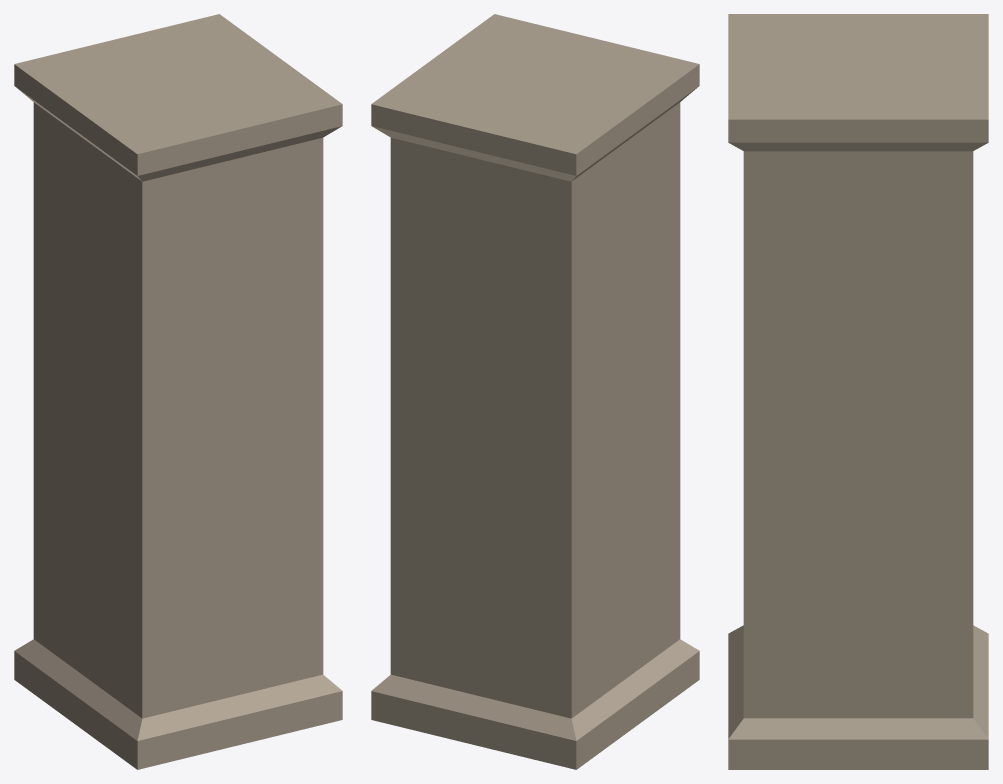
The model's file is SM_Guard_Rail_Box.FBX.
3 renders of one model, left to right at view 1: azimuth 30°, elevation 25°; view 2: azimuth 150°, elevation 25°; view 3: azimuth 270°, elevation 25°, orthographic. The views are drawn at different scales.
Visible parts, largest first — view 1: Object002; view 2: Object002; view 3: Object002.
Part boxes in pixels (x1=…): Object002: x1=14, y1=14, x2=342, y2=769; Object002: x1=371, y1=14, x2=699, y2=769; Object002: x1=728, y1=14, x2=988, y2=769.
Bounding box in the file's own units: 22.71 × 65.08 × 23.63.
